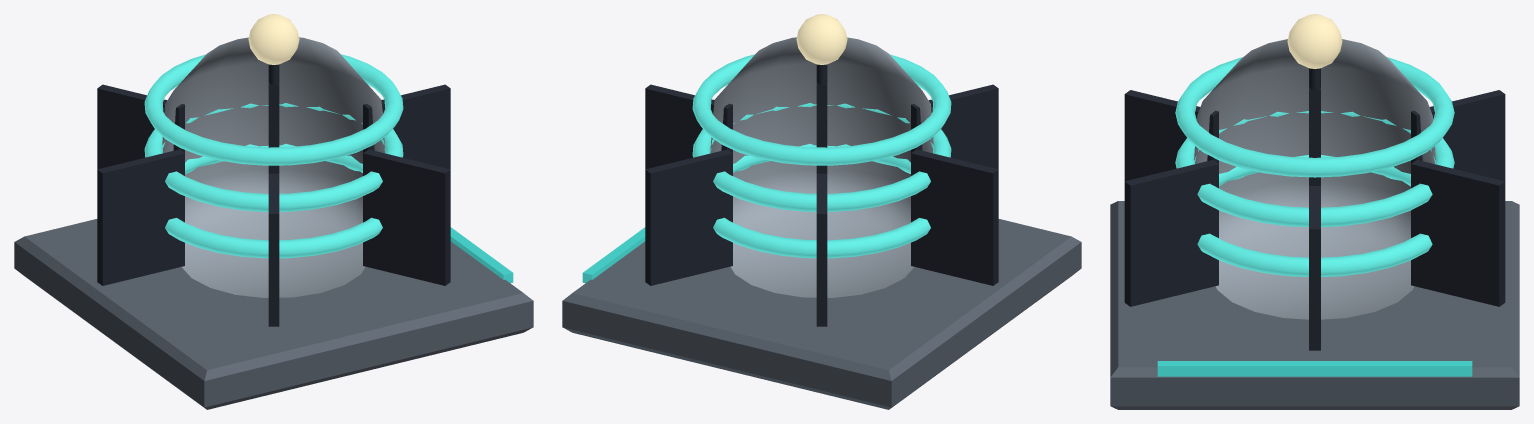
The model's file is energy.glb.
3 views of the same model, side by side, from view 1: azimuth 30°, elevation 25°; view 2: azimuth 150°, elevation 25°; view 3: azimuth 270°, elevation 25° (orthographic). The views are drawn at different scales.
Parts seen in each view (by area): view 1: energy; view 2: energy; view 3: energy.
Part boxes in pixels (x1,y1,x2,y2): energy: (14, 14, 533, 409); energy: (562, 14, 1081, 409); energy: (1110, 14, 1519, 409).
Size of the model in its own units: 1.1 by 0.87 by 1.04.
